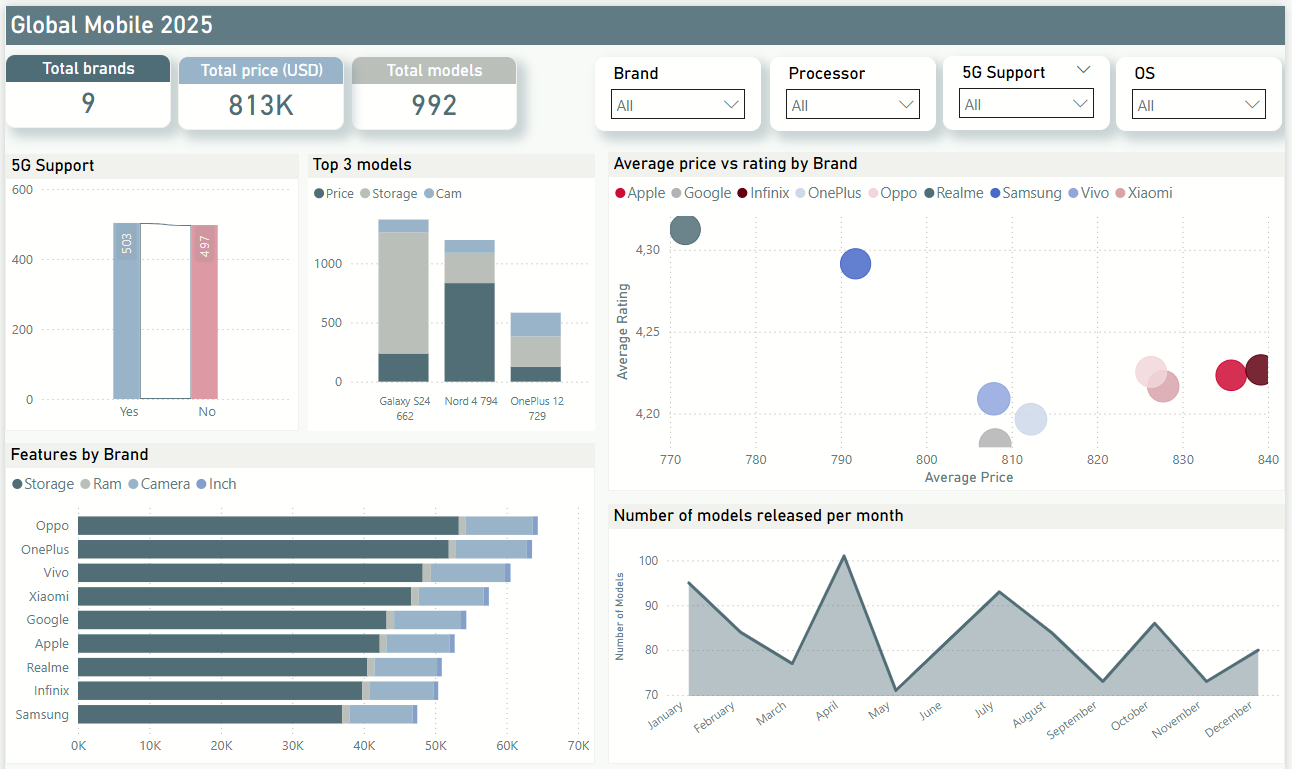

The dashboard page shown, as its layout file describes it:
{"tool":"powerbi","page":{"name":"Dashboard","canvas":[1280,900],"ordinal":0},"visuals":[{"type":"card","title":"Total brands","fields":{"Values":["Count(Global_Mobile_Prices_2025_Extended.brand)"]},"box":[0,48,166,74],"z":0},{"type":"slicer","fields":{"Values":["Global_Mobile_Prices_2025_Extended.brand"]},"box":[590,51,166,74],"z":1000},{"type":"ribbonChart","title":"5G Support","fields":{"Category":["Global_Mobile_Prices_2025_Extended.5g_support"],"Y":["CountNonNull(Global_Mobile_Prices_2025_Extended.5g_support)"]},"box":[0,148,294,277],"z":2000},{"type":"areaChart","title":"Number of models released per month","fields":{"Category":["MonthTable.MonthName"],"Y":["Count(Global_Mobile_Prices_2025_Extended.model)"]},"box":[603,498,677,260],"z":3000},{"type":"clusteredColumnChart","fields":{"Y":["Avg(Global_Mobile_Prices_2025_Extended.storage_gb)"],"Category":["Global_Mobile_Prices_2025_Extended.brand"]},"box":[859.3,217.9,274.8,179.9],"z":4000},{"type":"scatterChart","title":"Average price vs rating by Brand","fields":{"X":["Avg(Global_Mobile_Prices_2025_Extended.price_usd)"],"Series":["Global_Mobile_Prices_2025_Extended.brand"],"Size":["CountNonNull(Global_Mobile_Prices_2025_Extended.model)"],"Y":["Avg(Global_Mobile_Prices_2025_Extended.rating)"]},"box":[603,146,677,339],"z":5000},{"type":"barChart","title":"Features by Brand","fields":{"Category":["Global_Mobile_Prices_2025_Extended.brand"],"Y":["Sum(Global_Mobile_Prices_2025_Extended.storage_gb)","Sum(Global_Mobile_Prices_2025_Extended.ram_gb)","Sum(Global_Mobile_Prices_2025_Extended.camera_mp)","Sum(Global_Mobile_Prices_2025_Extended.display_size_inch)"]},"box":[0,437,590,321],"z":6000},{"type":"card","title":"Total models","fields":{"Values":["Count(Global_Mobile_Prices_2025_Extended.model)"]},"box":[346,50,166,74],"z":7000},{"type":"card","title":"Total price (USD)","fields":{"Values":["Sum(Global_Mobile_Prices_2025_Extended.price_usd)"]},"box":[173,50,166,74],"z":8000},{"type":"slicer","fields":{"Values":["Global_Mobile_Prices_2025_Extended.processor"]},"box":[765,51,166,74],"z":9000},{"type":"slicer","fields":{"Values":["Global_Mobile_Prices_2025_Extended.5g_support"]},"box":[938.3,50.4,166.2,73.8],"z":10000},{"type":"columnChart","title":"Top 3 models","fields":{"Category":["Global_Mobile_Prices_2025_Extended.model"],"Y":["Sum(Global_Mobile_Prices_2025_Extended.price_usd)","Sum(Global_Mobile_Prices_2025_Extended.storage_gb)","Sum(Global_Mobile_Prices_2025_Extended.camera_mp)"]},"box":[303,148,287,277],"z":11000},{"type":"slicer","fields":{"Values":["Global_Mobile_Prices_2025_Extended.os"]},"box":[1110.8,51.3,166.2,73.8],"z":12000},{"type":"textbox","box":[1,0,1279,39],"z":13002}]}

Visuals, with their boxes on the page's 1280x900 design canvas (x1, y1, x2, y2). These are canvas units, not pixel positions in the 1292x769 screenshot, which may show the page scaled, cropped or inside an application window:
"Total brands" card: (x1=0, y1=48, x2=166, y2=122)
slicer - Global_Mobile_Prices_2025_Extended.brand: (x1=590, y1=51, x2=756, y2=125)
"5G Support" ribbonChart: (x1=0, y1=148, x2=294, y2=425)
"Number of models released per month" areaChart: (x1=603, y1=498, x2=1280, y2=758)
clusteredColumnChart - Avg(Global_Mobile_Prices_2025_Extended.storage_gb) x Global_Mobile_Prices_2025_Extended.brand: (x1=859, y1=218, x2=1134, y2=398)
"Average price vs rating by Brand" scatterChart: (x1=603, y1=146, x2=1280, y2=485)
"Features by Brand" barChart: (x1=0, y1=437, x2=590, y2=758)
"Total models" card: (x1=346, y1=50, x2=512, y2=124)
"Total price (USD)" card: (x1=173, y1=50, x2=339, y2=124)
slicer - Global_Mobile_Prices_2025_Extended.processor: (x1=765, y1=51, x2=931, y2=125)
slicer - Global_Mobile_Prices_2025_Extended.5g_support: (x1=938, y1=50, x2=1104, y2=124)
"Top 3 models" columnChart: (x1=303, y1=148, x2=590, y2=425)
slicer - Global_Mobile_Prices_2025_Extended.os: (x1=1111, y1=51, x2=1277, y2=125)
textbox: (x1=1, y1=0, x2=1280, y2=39)
